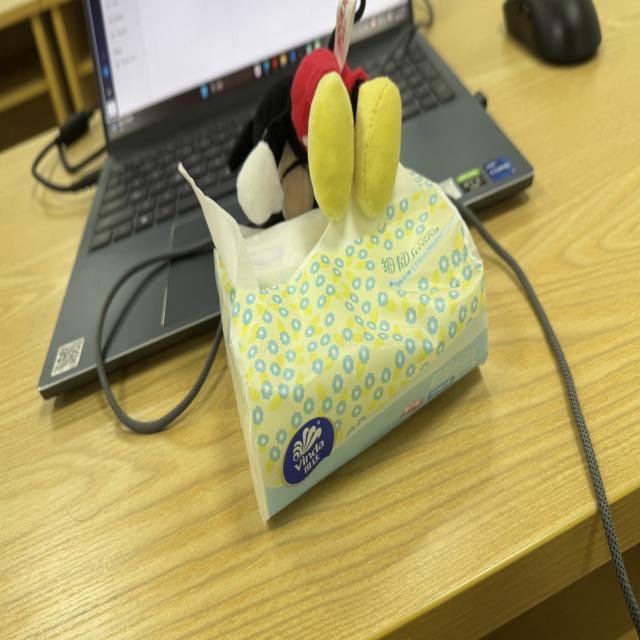tissue: (197, 168, 487, 520)
